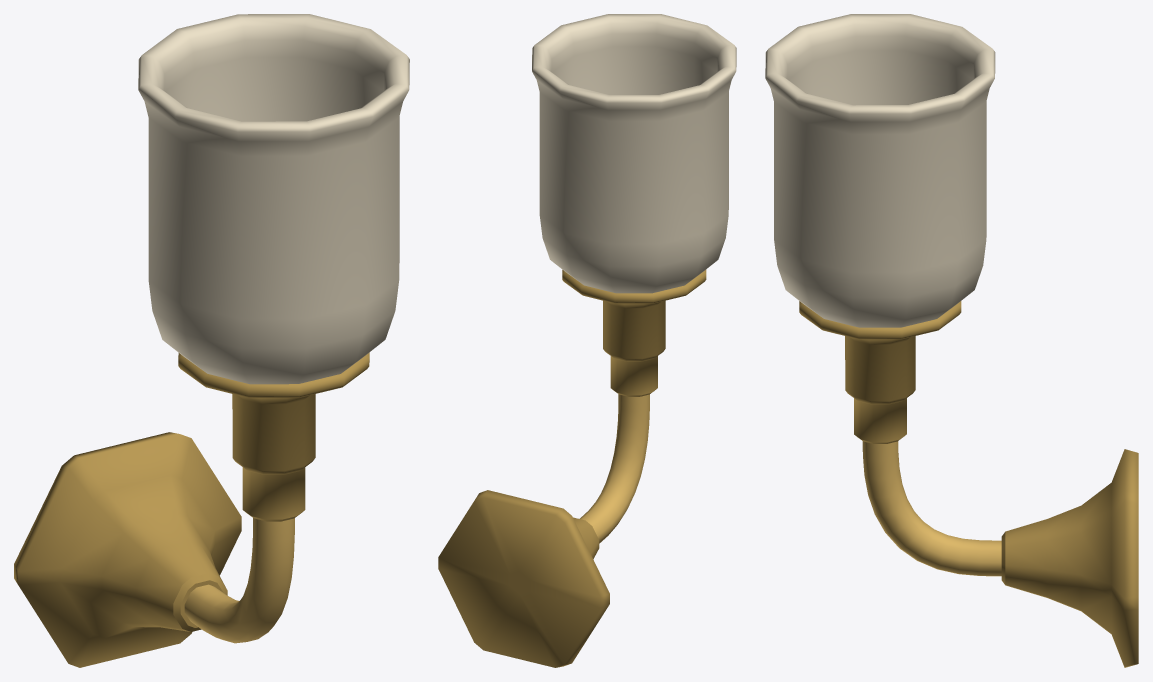
File: MiscWallCandle.fbx
The picture shows the model from 3 angles, left to right: view 1: azimuth 30°, elevation 25°; view 2: azimuth 150°, elevation 25°; view 3: azimuth 270°, elevation 25°; orthographic projection. The views are drawn at different scales.
Parts seen in each view (by area): view 1: CandleWallUVd:polySurface121; view 2: CandleWallUVd:polySurface121; view 3: CandleWallUVd:polySurface121.
Part boxes in pixels (<box>): CandleWallUVd:polySurface121: <box>14,14,409,667</box>; CandleWallUVd:polySurface121: <box>438,14,736,667</box>; CandleWallUVd:polySurface121: <box>765,14,1138,667</box>.
Size of the model in its own units: 10.07 by 28.29 by 16.34.
